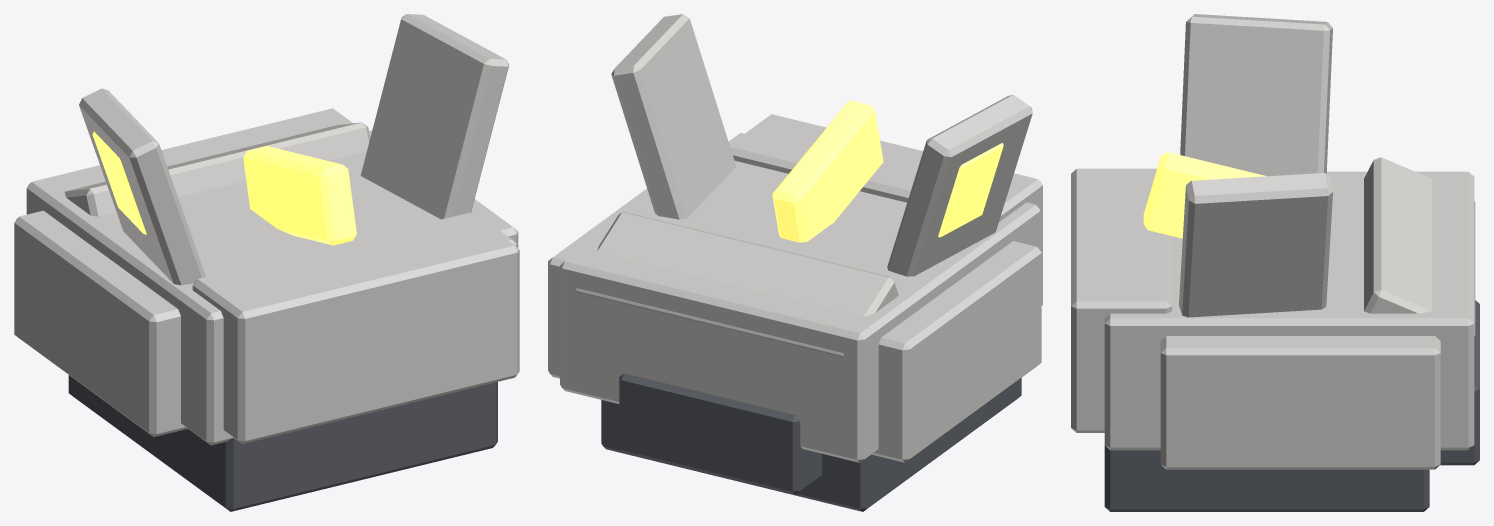
File: tankhead_head.glb
3 views of the same model, side by side, from view 1: azimuth 30°, elevation 25°; view 2: azimuth 150°, elevation 25°; view 3: azimuth 270°, elevation 25° (orthographic). The views are drawn at different scales.
Parts seen in each view (by area): view 1: tankhead_head; view 2: tankhead_head; view 3: tankhead_head.
Boxes of the visible parts, box(x1,y1,x2,y2) form: tankhead_head: box(14, 14, 519, 511); tankhead_head: box(548, 14, 1042, 511); tankhead_head: box(1071, 14, 1479, 511).
Size of the model in its own units: 0.7817 by 0.6883 by 0.73.
